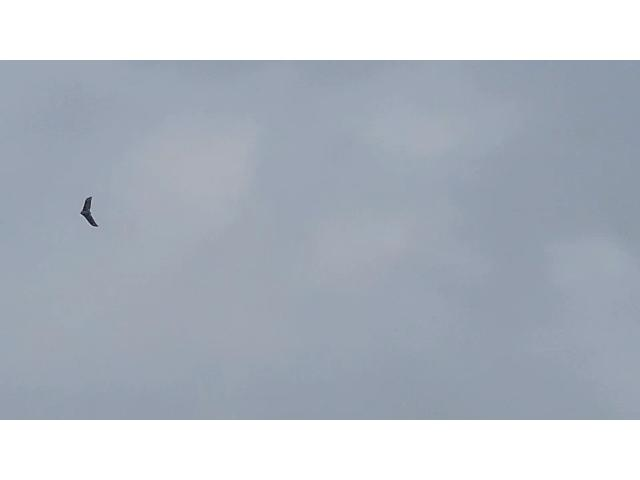Anti-Drone: (80, 196, 100, 228)
